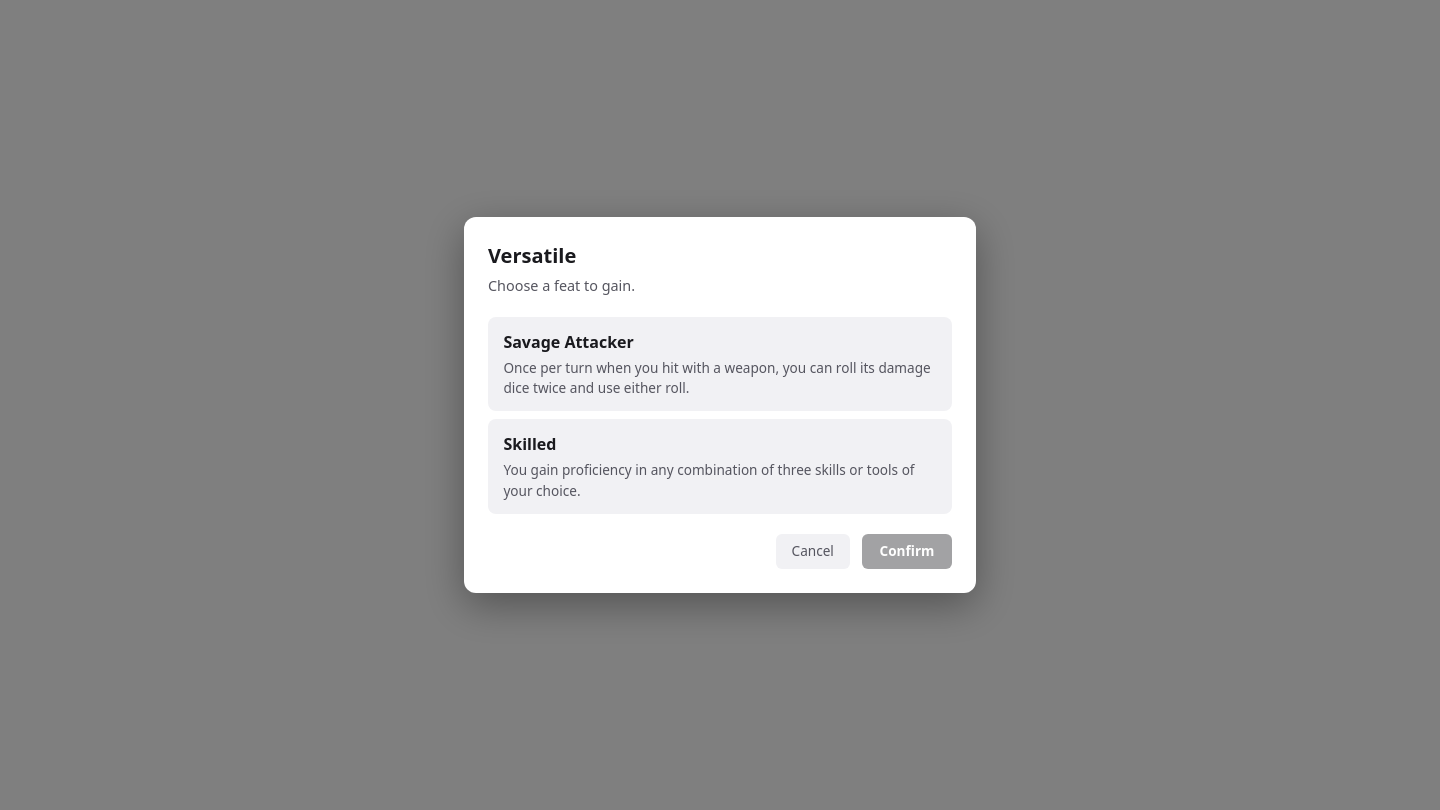
Scenario: FeatChoiceDialog › disables skills the character is already proficient in
Click the button "Skilled" at (720, 467), box [488, 419, 952, 514]
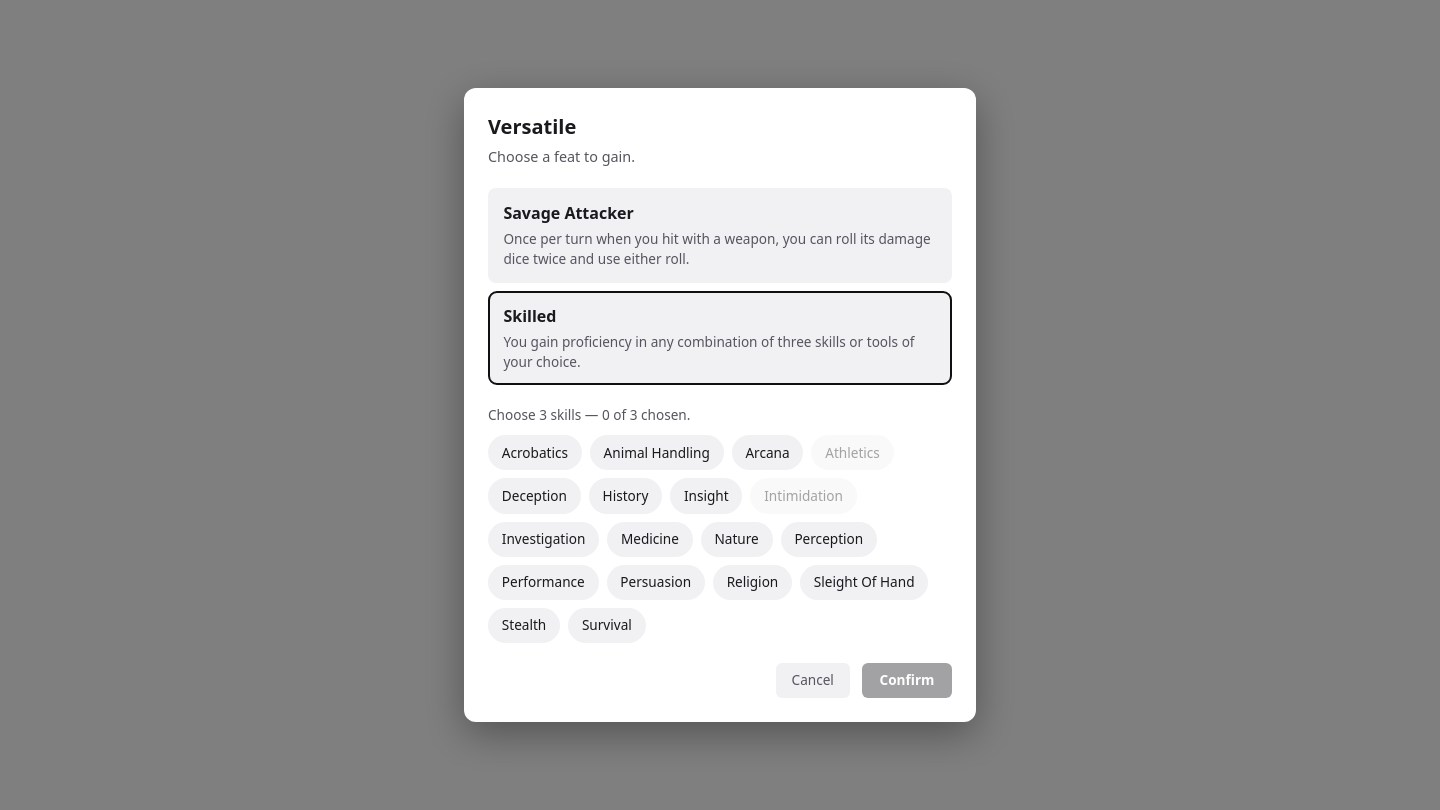
Expected: the button "Athletics" is disabled, [811, 435, 894, 470]
Expected: the button "Intimidation" is disabled, [750, 478, 857, 514]
